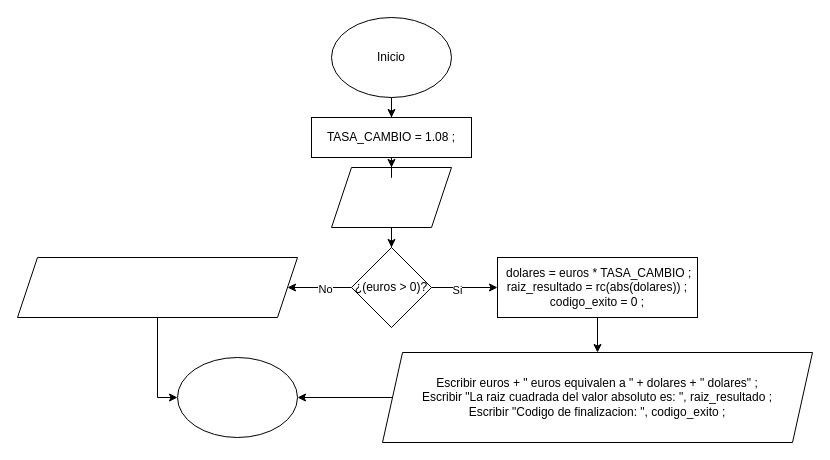
Some shapes in this 830 by 460 pixel diagram are drawn without their labels. The shapes that lost their labels are listed below. From the top down, each one's box as (x1, y1, x2, y2) in pixels, then its label:
(330, 166, 452, 228): Leer euros ;
(16, 256, 298, 318): Escribir "Error: El monto en euros debe ser mayor a cero." ;
(176, 356, 298, 438): Fin
